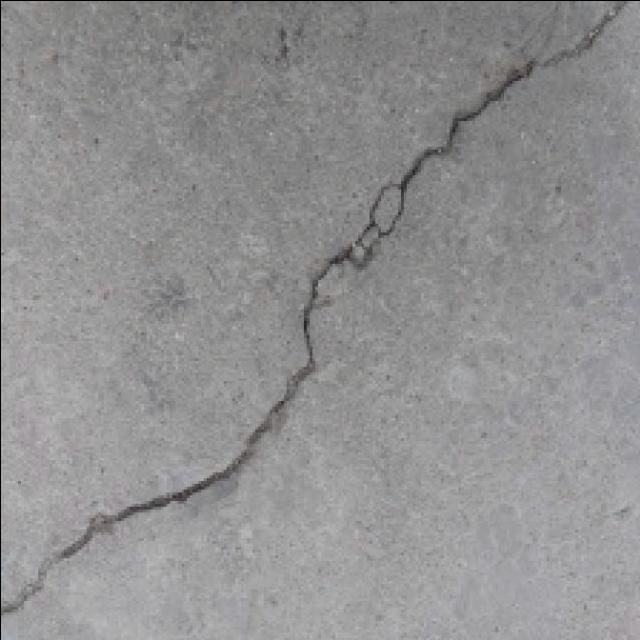SurfaceCrack: (4, 8, 640, 622)
